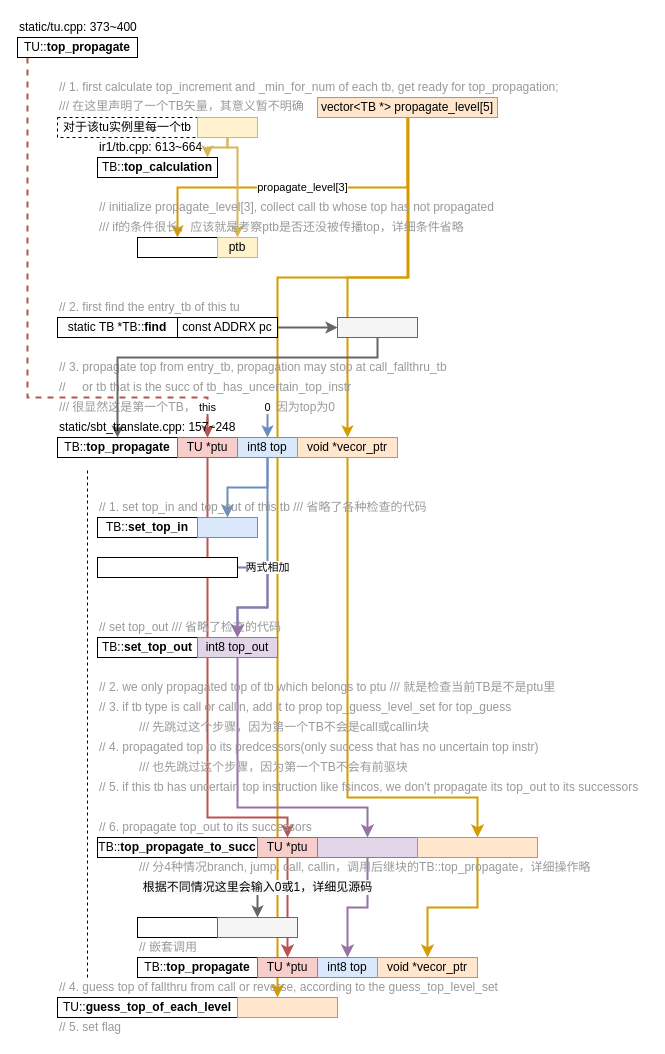
Image size: 665x1054. Some labels were removed from this diagram. The centre of each missing label's shape, as x and y in pixels:
"const int index" goes at [257,927].
"int8 succ_top_in" goes at [367,847].
"int8 TB:: top_increment" goes at [167,567].
"int8 top_in" goes at [227,527].
"push_back" goes at [177,247].
"TB *ptb" goes at [227,127].
"TB *ptb_entry" goes at [377,327].
"TB *TB:: succ" goes at [177,927].
"void *propagate_level" goes at [477,847].
"void *vector_ptr" goes at [287,1007].
